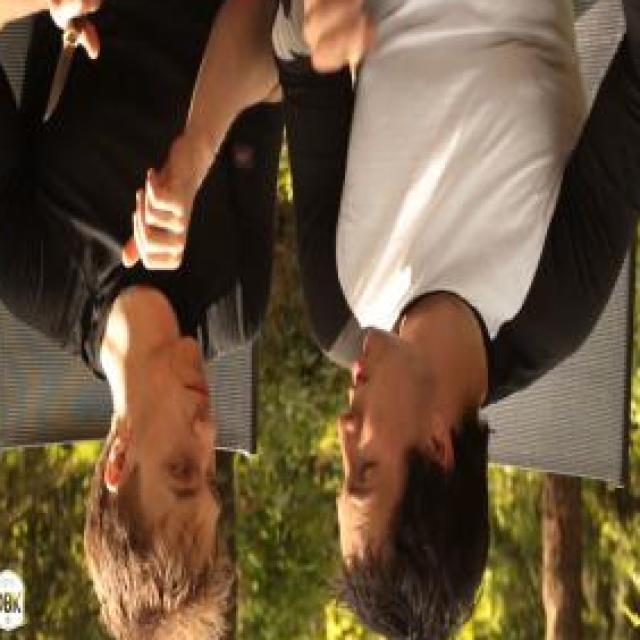knife: (34, 0, 104, 136)
